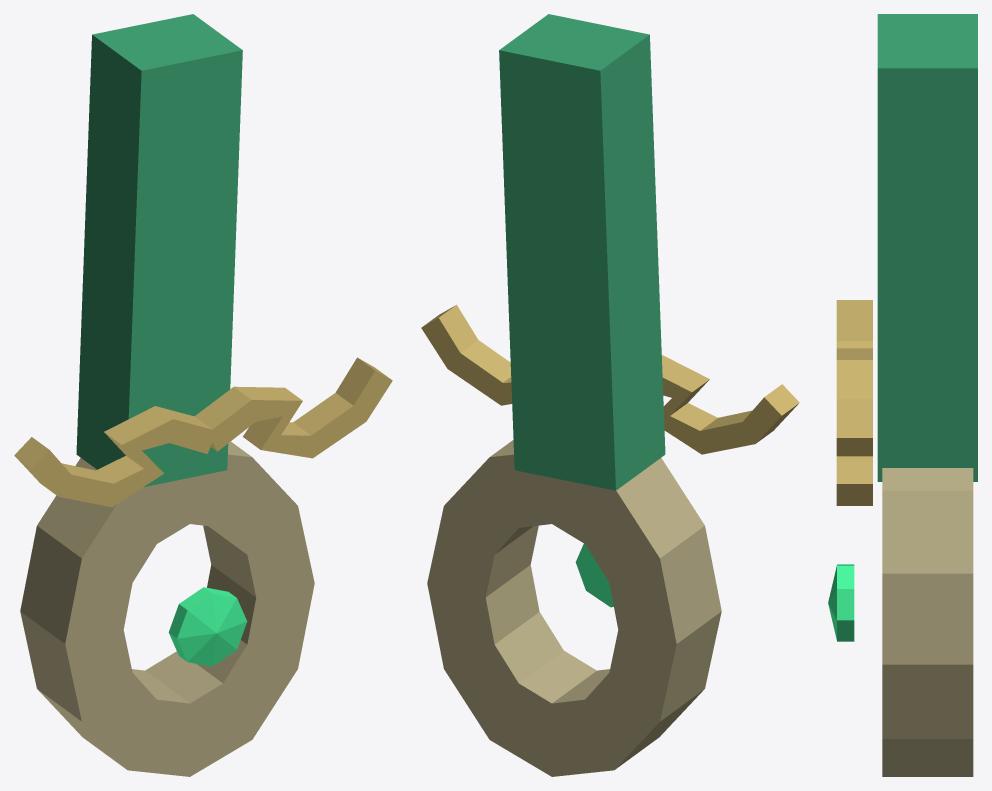
The model's file is cloud_loop.obj.
3 views of the same model, side by side, from view 1: azimuth 30°, elevation 25°; view 2: azimuth 150°, elevation 25°; view 3: azimuth 270°, elevation 25° (orthographic).
Parts seen in each view (by area): view 1: cloud_handle_loop, cloud_handle_stem, cloud_handle_stem_edge, handle_cloud_left, handle_cloud_right, handle_cloud_right_edge, loop_gem, handle_cloud_left_edge; view 2: cloud_handle_loop, cloud_handle_stem, cloud_handle_stem_edge, handle_cloud_left, handle_cloud_left_edge, handle_cloud_right, handle_cloud_right_edge, loop_gem; view 3: cloud_handle_stem_edge, cloud_handle_loop, handle_cloud_right_edge, handle_cloud_left_edge, loop_gem.
Part boxes in pixels (bbox=[...]): cloud_handle_loop: bbox=[20, 441, 314, 776]; cloud_handle_stem: bbox=[128, 50, 242, 487]; cloud_handle_stem_edge: bbox=[76, 14, 242, 469]; handle_cloud_left: bbox=[32, 419, 216, 507]; handle_cloud_right: bbox=[207, 370, 392, 458]; handle_cloud_right_edge: bbox=[194, 357, 390, 450]; loop_gem: bbox=[168, 587, 247, 666]; handle_cloud_left_edge: bbox=[14, 406, 211, 495]; cloud_handle_loop: bbox=[427, 440, 721, 776]; cloud_handle_stem: bbox=[499, 50, 615, 490]; cloud_handle_stem_edge: bbox=[499, 14, 665, 490]; handle_cloud_left: bbox=[662, 378, 781, 454]; handle_cloud_left_edge: bbox=[661, 355, 799, 443]; handle_cloud_right: bbox=[421, 318, 512, 405]; handle_cloud_right_edge: bbox=[423, 304, 511, 382]; loop_gem: bbox=[575, 543, 613, 607]; cloud_handle_stem_edge: bbox=[877, 14, 977, 481]; cloud_handle_loop: bbox=[882, 468, 973, 776]; handle_cloud_right_edge: bbox=[836, 399, 872, 505]; handle_cloud_left_edge: bbox=[836, 300, 872, 398]; loop_gem: bbox=[828, 564, 854, 641].
Size of the model in its own units: 0.4626 by 0.8825 by 0.1644.
